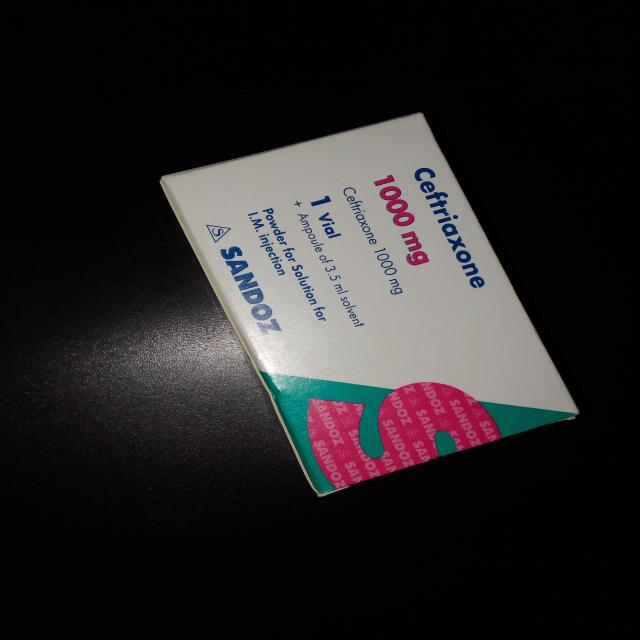Medicine: (153, 104, 585, 509)
